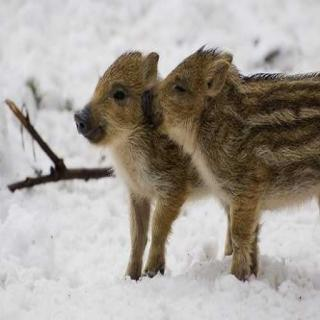Pig: (143, 41, 320, 282), (61, 46, 196, 264)
